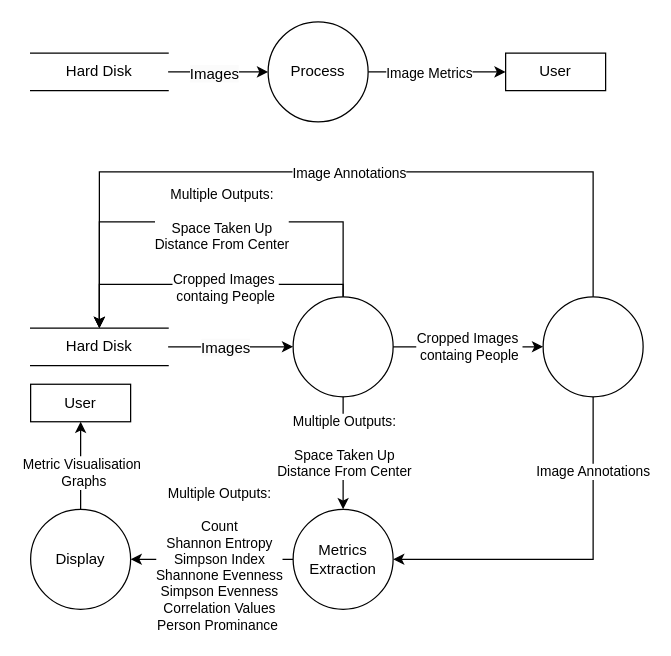
This 671x656 diagram has some shape labels left out. The centre of each missing label's shape, as x and y in pixels:
Facial Analysis Model: (592,346)
YOLO Detect Person: (342,346)
